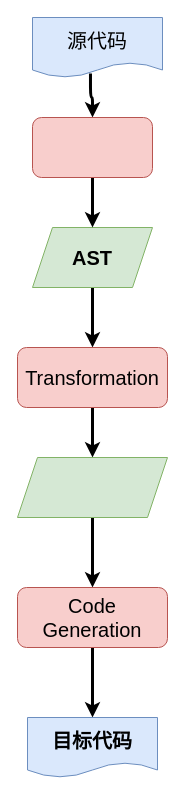
The diagram is 185 pixels wide and 795 high, and some of its shapes have lost their labels. The shapes that lost their labels are listed below. From the top down, each one's centre as x and y in pixels, then its label:
(92,147): Parsing
(92,487): 转换代码 (中间代码)
